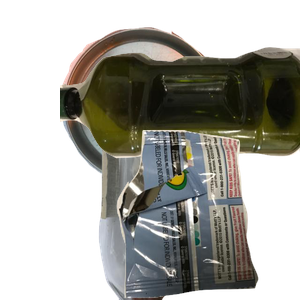glass: (96, 120, 283, 300)
metal: (59, 10, 273, 189)
plastic: (60, 44, 300, 195)
trash: (114, 130, 300, 300)
